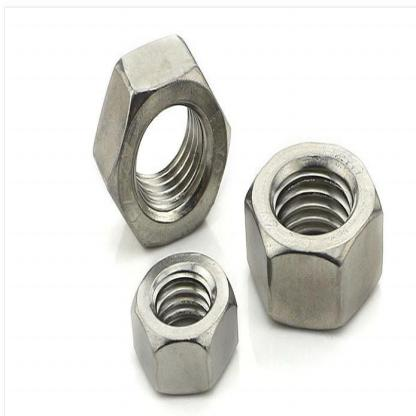FOD: (88, 34, 236, 249), (242, 135, 387, 331), (128, 246, 244, 402)
